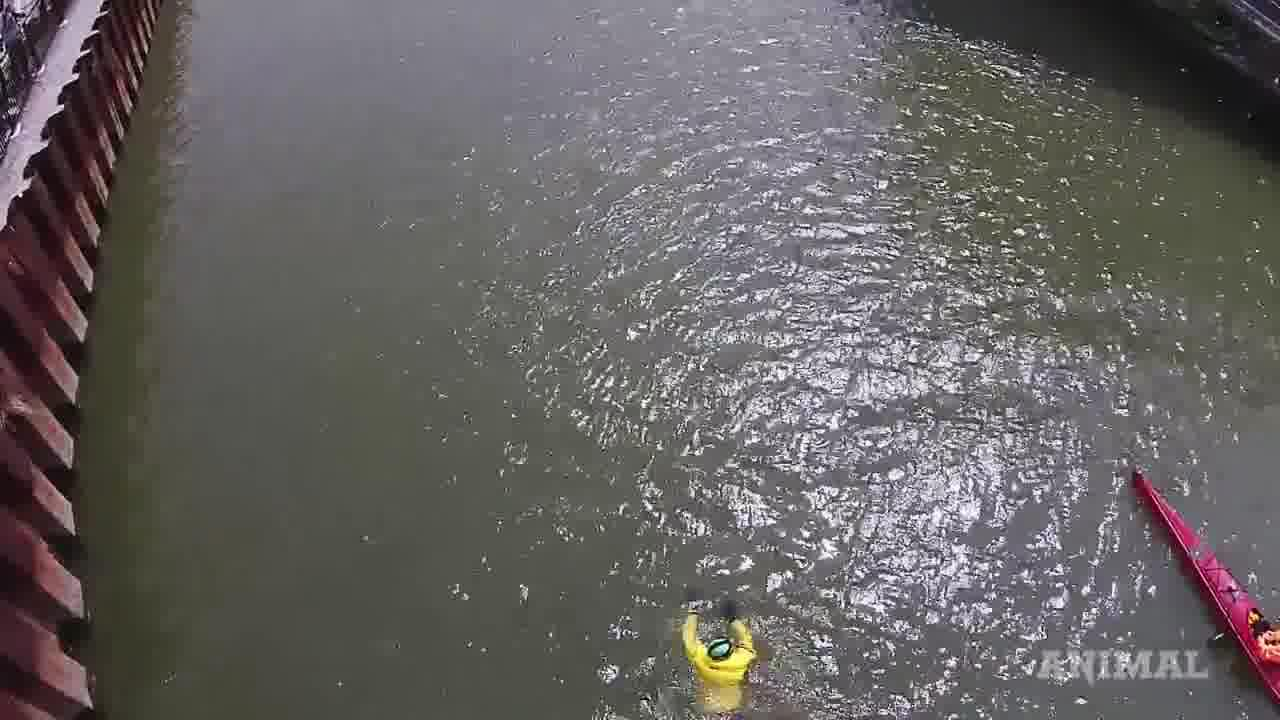human: (666, 606, 782, 678)
